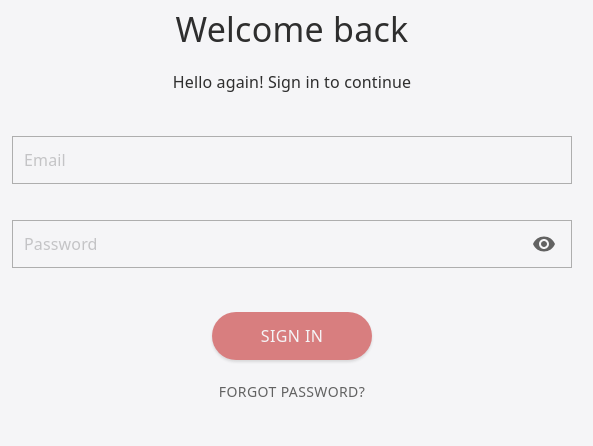
it: SignInPage › invalid password: error in alert, no redirect, input clears error
This screenshot has width=593, height=446.
Type "a@b.co" into the field labelled "Email". click: {"x": 292, "y": 160}
box: [12,136,572,184]
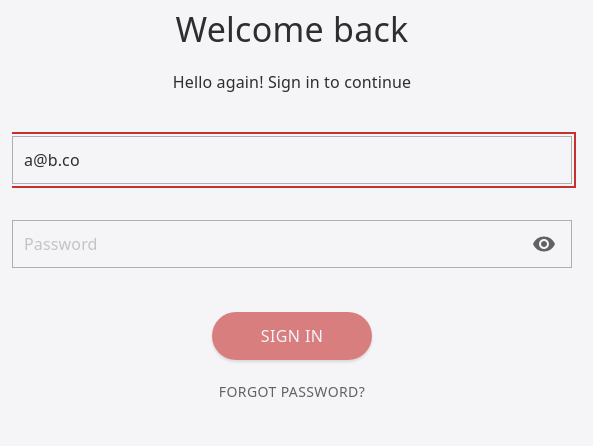
Type "secret1" into the password field labelled "Password". click: {"x": 292, "y": 244}
box: [12,220,572,268]
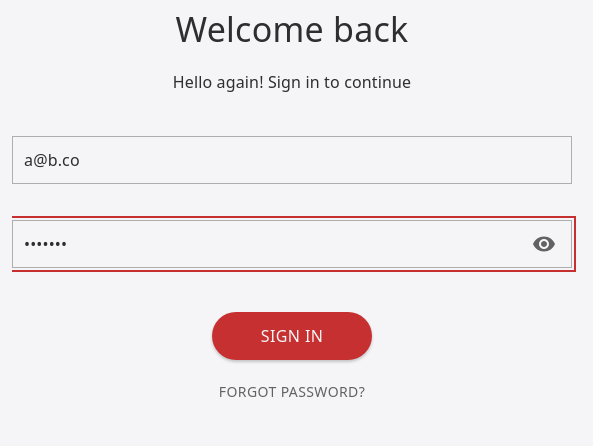
Click the button "Sign in". click: {"x": 292, "y": 336}
box: [212,312,372,360]
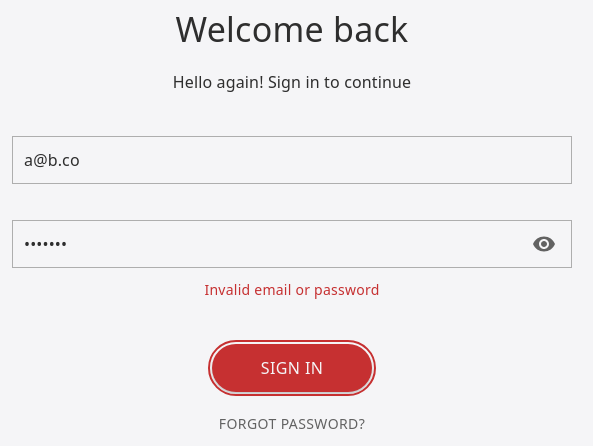
Result: the message reads "Invalid email or password" at [204,280,380,299]
Type "x" into the password field named "Password". click: {"x": 292, "y": 244}
box: [12,220,572,268]
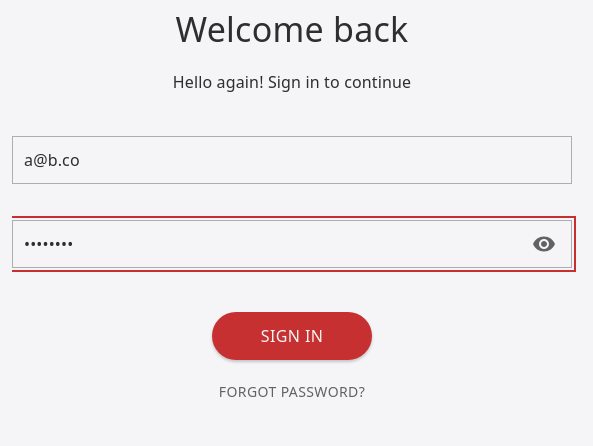
Result: the message "Invalid email or password" is gone
